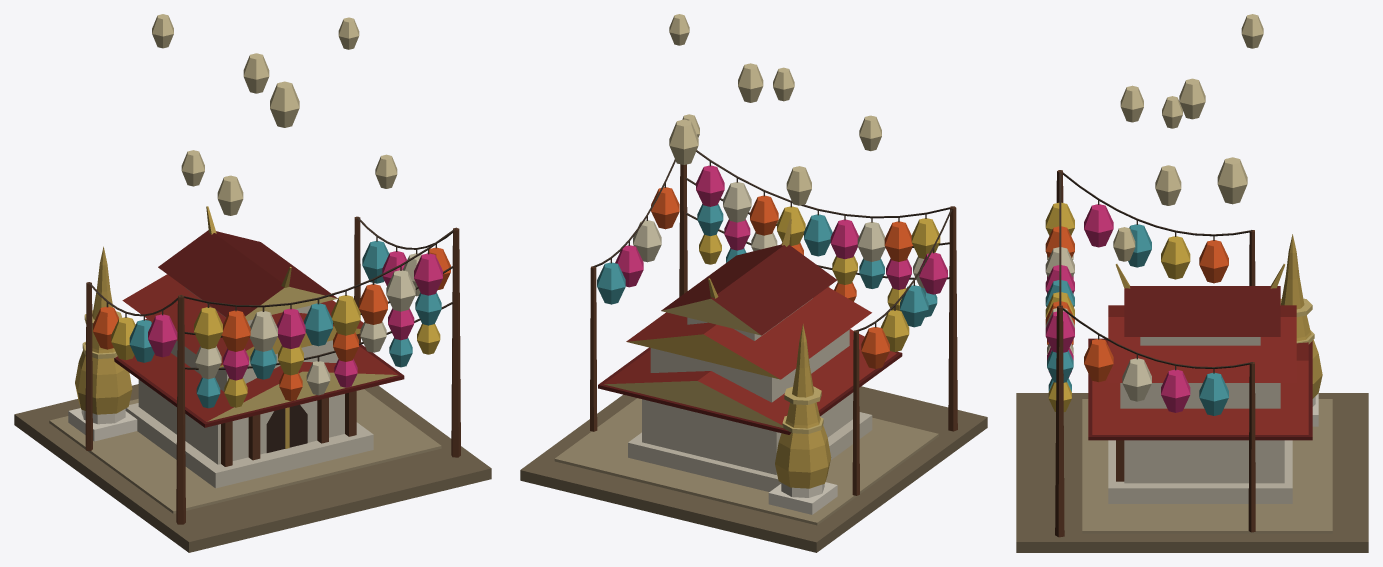
Rendered from lanternesChiangMai.glb.
3 views of the same model, side by side, from view 1: azimuth 30°, elevation 25°; view 2: azimuth 150°, elevation 25°; view 3: azimuth 270°, elevation 25° (orthographic). The views are drawn at different scales.
Parts seen in each view (by area): view 1: lanternesChiangMai; view 2: lanternesChiangMai; view 3: lanternesChiangMai.
Boxes of the visible parts, <box> form: lanternesChiangMai: <box>14,14,491,552</box>; lanternesChiangMai: <box>520,14,987,552</box>; lanternesChiangMai: <box>1016,14,1368,552</box>.
Size of the model in its own units: 1.76 by 2.38 by 1.76.
